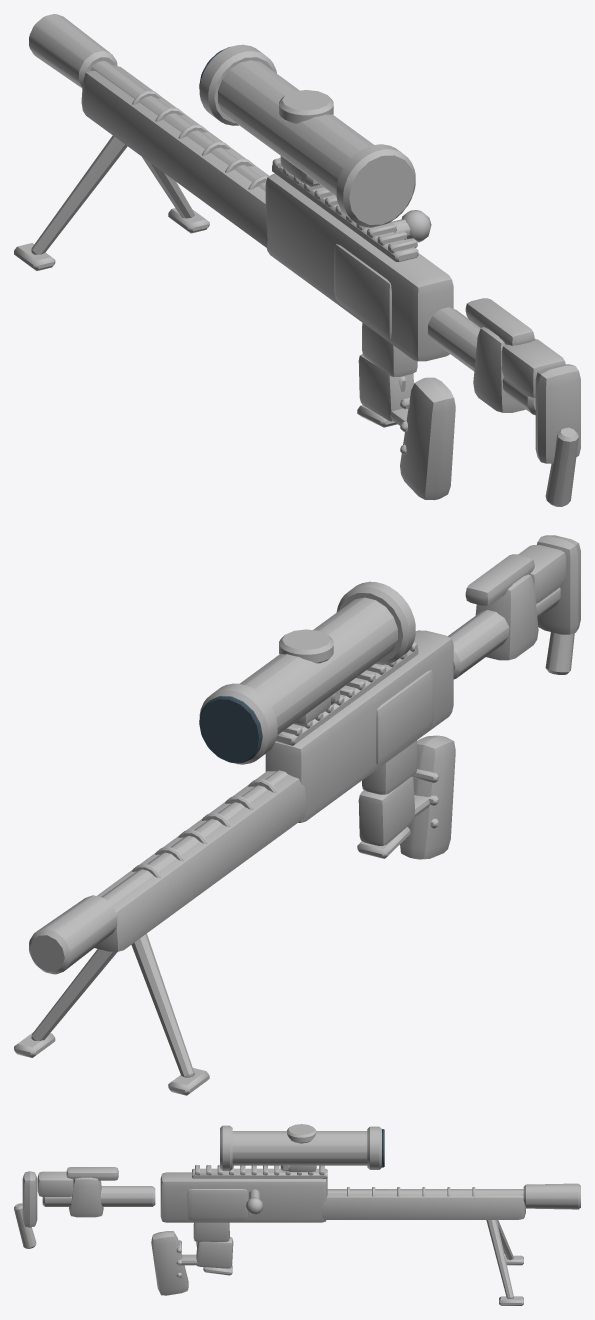
The model's file is wpn_sniper.glb.
3 renders of one model, top to bottom at view 1: azimuth 30°, elevation 25°; view 2: azimuth 150°, elevation 25°; view 3: azimuth 270°, elevation 25°, orthographic. The views are drawn at different scales.
Parts seen in each view (by area): view 1: sniper; view 2: sniper; view 3: sniper.
Part boxes in pixels (<box>): sniper: <box>14,14,580,506</box>; sniper: <box>14,535,580,1095</box>; sniper: <box>14,1124,580,1305</box>.
Bounding box in the file's own units: 0.21 × 0.3509 × 1.09.
